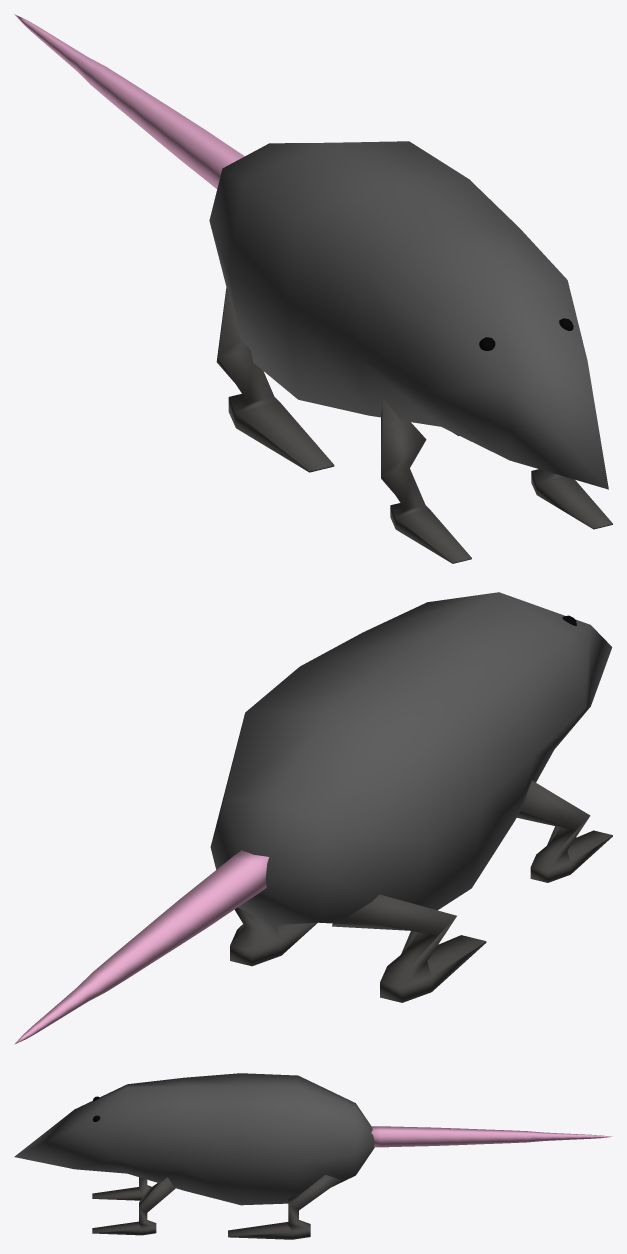
The model's file is rat.fbx.
The picture shows the model from 3 angles, top to bottom: view 1: azimuth 30°, elevation 25°; view 2: azimuth 150°, elevation 25°; view 3: azimuth 270°, elevation 25°; orthographic projection. The views are drawn at different scales.
Visible parts, largest first — view 1: Body, Tail, BackLegRight, RightLegFront, LeftLegFront; view 2: Body, Tail, BackLegRight, RightLegFront, BackLegLeft; view 3: Body, Tail, BackLegLeft, LeftLegFront, RightLegFront.
Part boxes in pixels (box(x1,y1,x2,y2)): Body: box(209, 141, 608, 489); Tail: box(14, 14, 244, 188); BackLegRight: box(216, 287, 334, 472); RightLegFront: box(381, 398, 471, 563); LeftLegFront: box(531, 469, 612, 529); Body: box(210, 592, 612, 925); Tail: box(14, 850, 268, 1044); BackLegRight: box(332, 894, 486, 1002); RightLegFront: box(517, 780, 612, 882); BackLegLeft: box(230, 907, 317, 966); Body: box(14, 1073, 374, 1205); Tail: box(371, 1126, 612, 1147); BackLegLeft: box(228, 1175, 340, 1239); LeftLegFront: box(92, 1177, 175, 1235); RightLegFront: box(92, 1177, 151, 1200).
Size of the model in its own units: 141 by 147 by 612.
